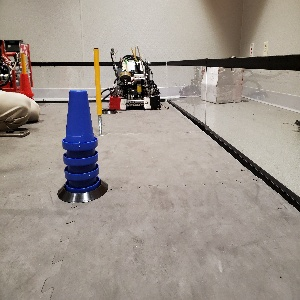Blue_4: (61, 89, 100, 192)
Red_1: (17, 72, 34, 98)
